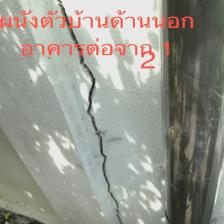High: (69, 58, 131, 223)
